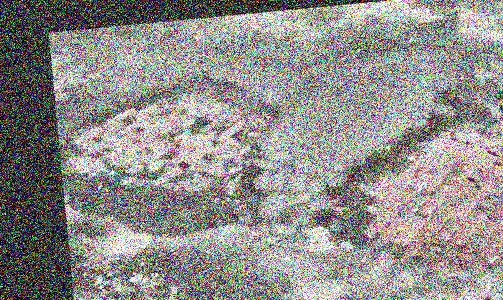pothole: (295, 72, 503, 286), (55, 72, 294, 246)
